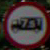Heavy Vehicles: (6, 4, 46, 45)
